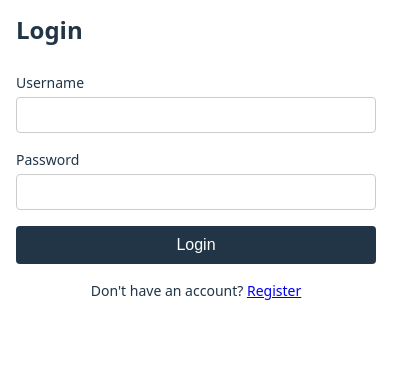
Test: loginPage › shows server error on login failure
In the field labelled "Username": (196, 115) [16,97,376,133], type "alice"
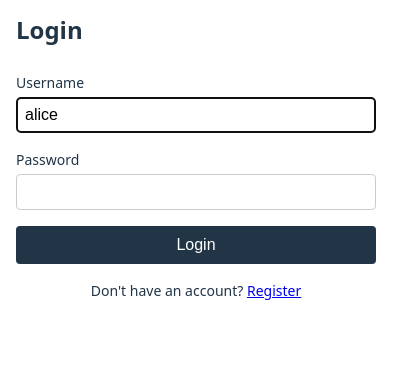
In the password field labelled "Password": (196, 192) [16,174,376,210], type "wrongpassword"
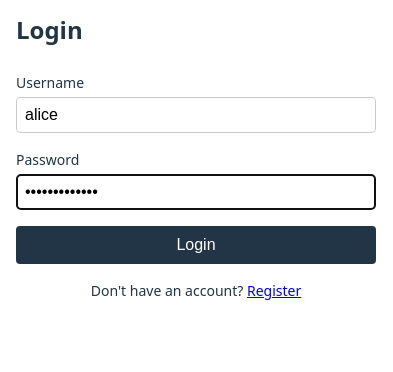
Click the button "Login": (196, 245) [16,226,376,264]
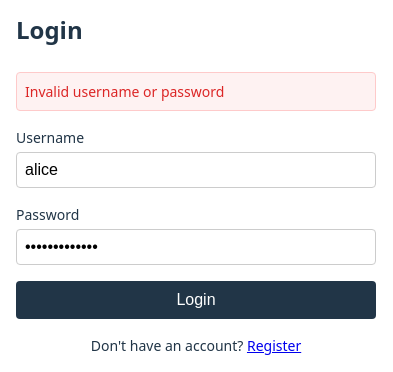
Check: the text "Invalid username or password" is shown, box [16,72,376,111]
